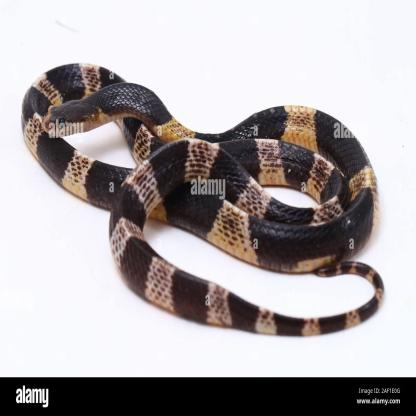Snake: (25, 59, 388, 338), (43, 87, 167, 156)
